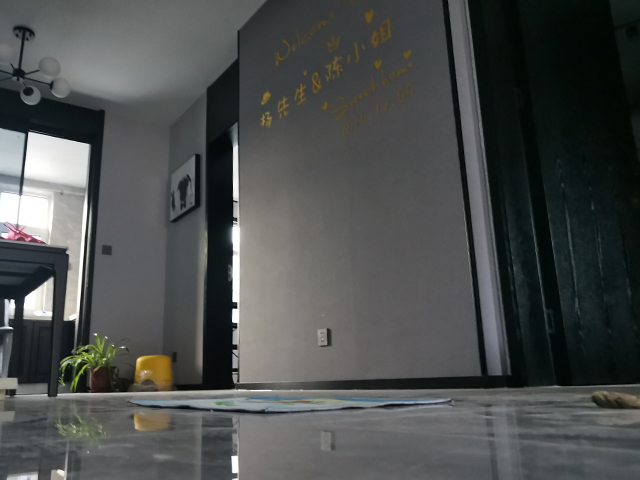cabinet: (8, 312, 77, 392)
carpet: (124, 393, 459, 417)
feces: (589, 388, 640, 412)
stool: (130, 353, 174, 392)
table: (1, 238, 72, 399)
